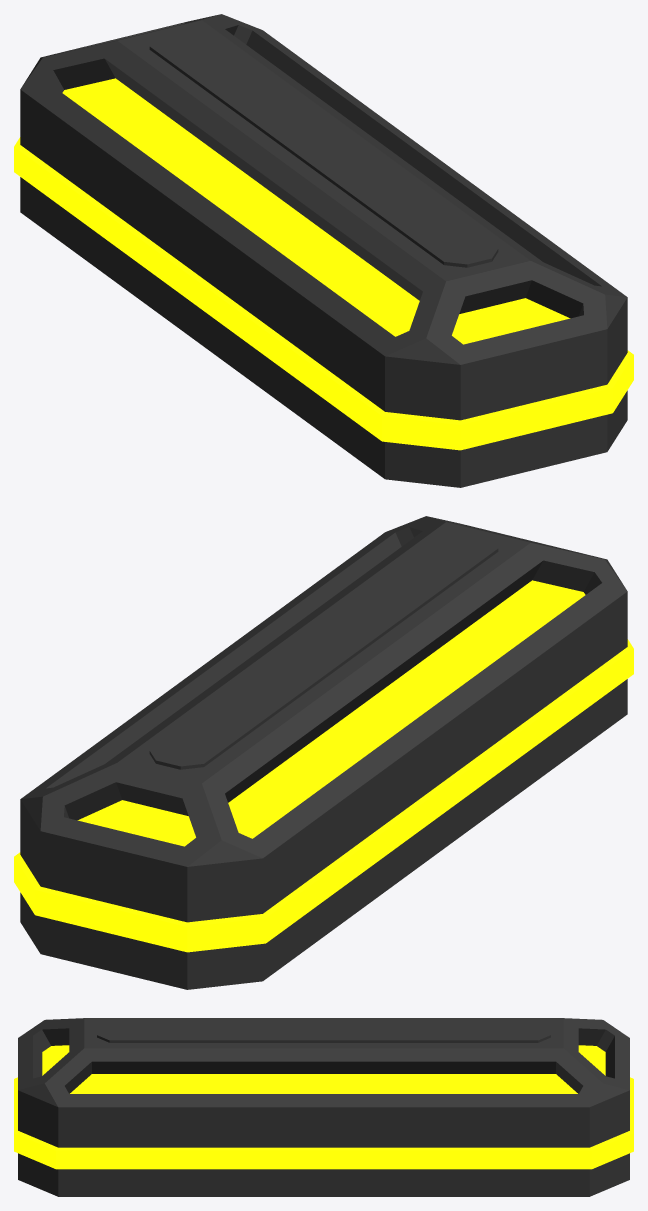
Rendered from Wall_1x3.fbx.
3 renders of one model, top to bottom at view 1: azimuth 30°, elevation 25°; view 2: azimuth 150°, elevation 25°; view 3: azimuth 270°, elevation 25°, orthographic. The views are drawn at different scales.
Parts seen in each view (by area): view 1: Cube; view 2: Cube; view 3: Cube.
Boxes of the visible parts, x1,y1,x2,y2 form: Cube: [14, 14, 633, 487]; Cube: [14, 516, 633, 989]; Cube: [14, 1018, 633, 1196].
Size of the model in its own units: 208 by 133 by 608.
